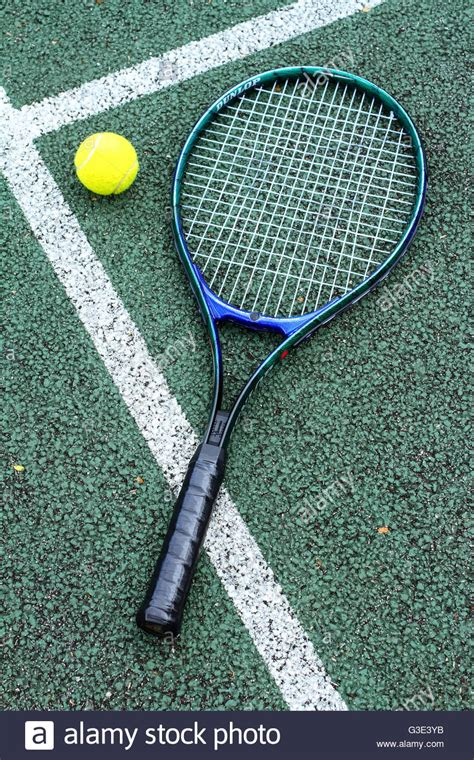tennis_ball: (73, 131, 138, 195)
